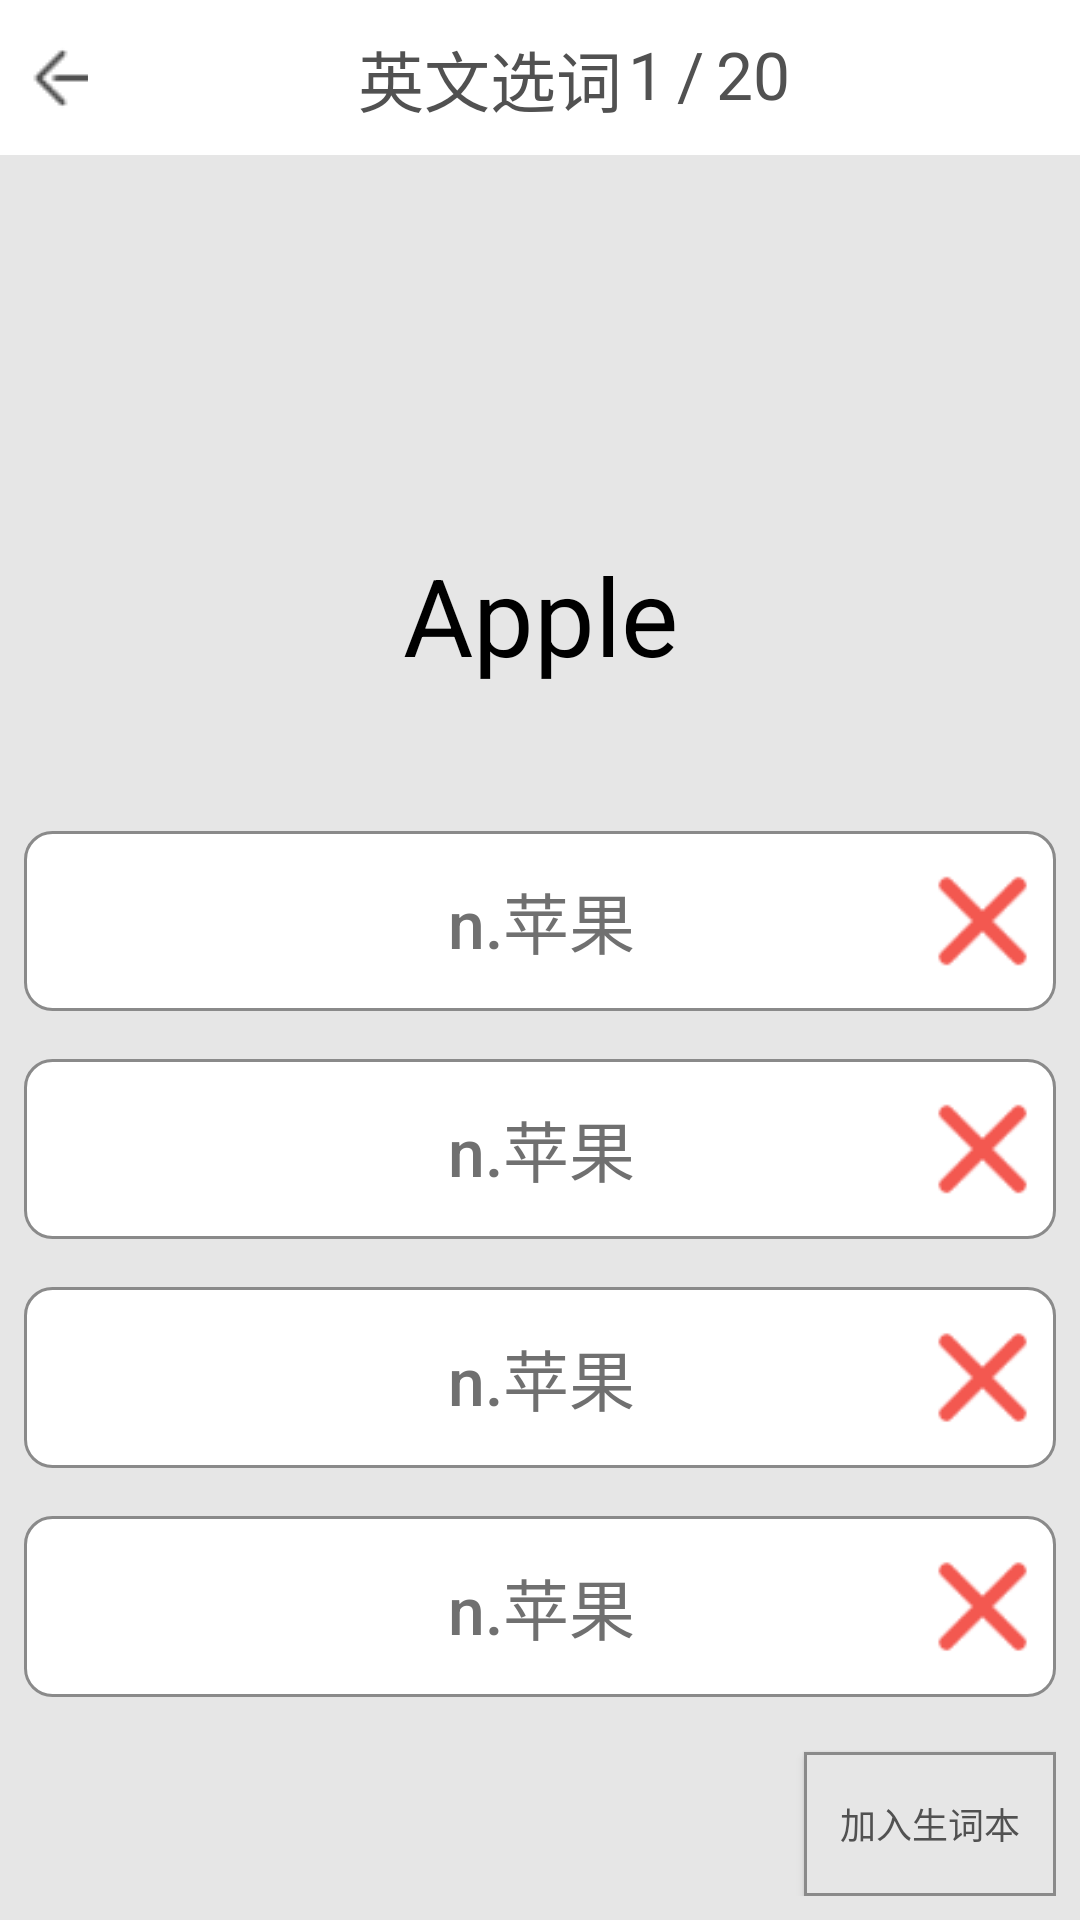

Icons on this 1080x1920 Android screen, each with the point to tap as [x,y]:
back: [61,78]
